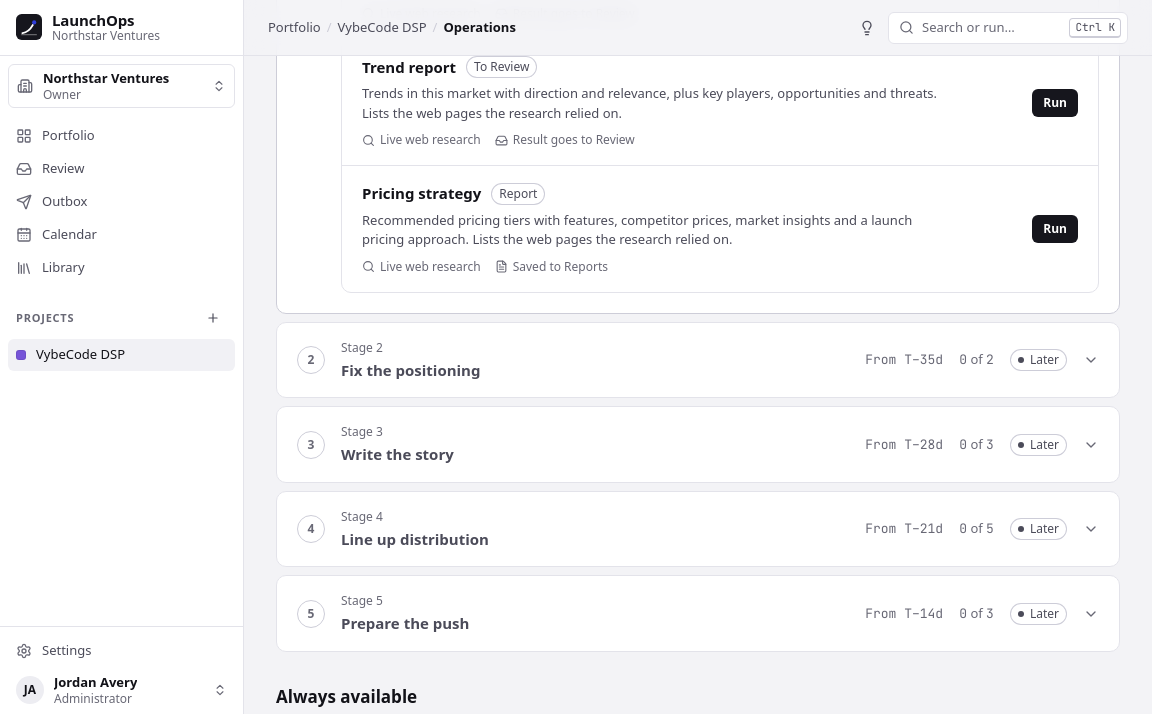
Test: The launch playbook › names unfinished groundwork a stage builds on, without stopping anyone running it
(page scrolled)
Click the button "2 Stage 2 Fix the positioning From T–35d 0 of 2 Later" at (358, 347), box x1=277 y1=323 x2=1119 y2=397
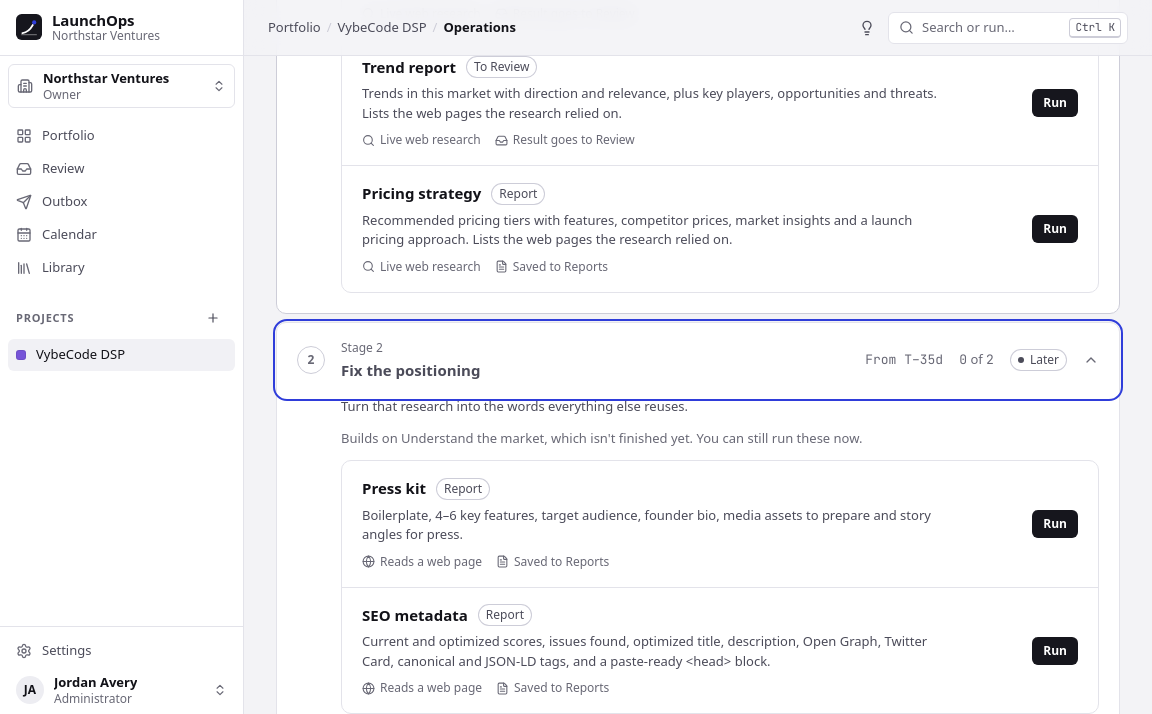
Result: the text "Builds on Understand the market, which isn't finished yet. You can still run these now." is shown at x1=341 y1=429 x2=862 y2=447
Result: the 3rd button "Run" is shown at x1=1032 y1=510 x2=1078 y2=538
